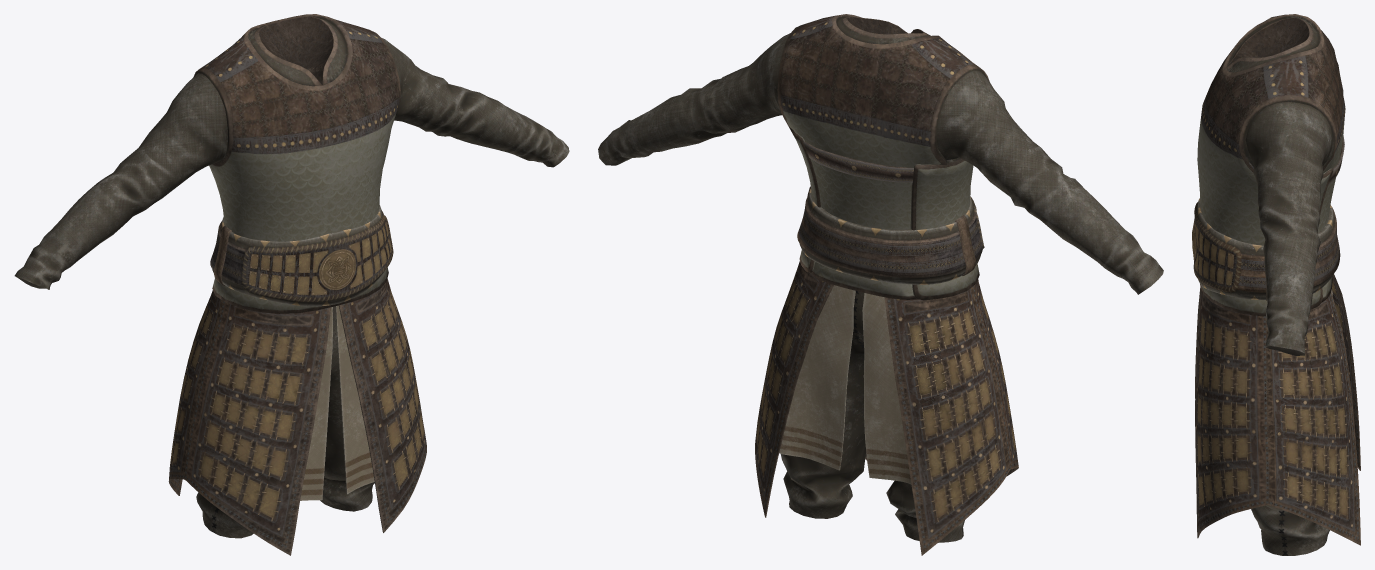
File: dunland_wulf_scalemail_heavy_c.fbx
The picture shows the model from 3 angles, left to right: view 1: azimuth 30°, elevation 25°; view 2: azimuth 150°, elevation 25°; view 3: azimuth 270°, elevation 25°; orthographic projection. The views are drawn at different scales.
Parts seen in each view (by area): view 1: dunland_wulf_scalemail_heavy_c.base, dunland_wulf_scalemail_heavy_c.leatherskirt, dunland_wulf_scalemail_heavy_c.belt, dunland_wulf_scalemail_heavy_c.skirt; view 2: dunland_wulf_scalemail_heavy_c.base, dunland_wulf_scalemail_heavy_c.leatherskirt, dunland_wulf_scalemail_heavy_c.skirt, dunland_wulf_scalemail_heavy_c.belt, dunland_wulf_scalemail_heavy_c.prop; view 3: dunland_wulf_scalemail_heavy_c.base, dunland_wulf_scalemail_heavy_c.leatherskirt, dunland_wulf_scalemail_heavy_c.belt.
Part boxes in pixels (left/top/right/bottom): dunland_wulf_scalemail_heavy_c.base: left=14, top=14, right=569, bottom=538; dunland_wulf_scalemail_heavy_c.leatherskirt: left=168, top=278, right=426, bottom=555; dunland_wulf_scalemail_heavy_c.belt: left=210, top=205, right=393, bottom=306; dunland_wulf_scalemail_heavy_c.skirt: left=184, top=305, right=374, bottom=500; dunland_wulf_scalemail_heavy_c.base: left=598, top=14, right=1163, bottom=542; dunland_wulf_scalemail_heavy_c.leatherskirt: left=755, top=261, right=1018, bottom=555; dunland_wulf_scalemail_heavy_c.skirt: left=779, top=285, right=911, bottom=484; dunland_wulf_scalemail_heavy_c.belt: left=797, top=186, right=984, bottom=284; dunland_wulf_scalemail_heavy_c.prop: left=803, top=141, right=913, bottom=182; dunland_wulf_scalemail_heavy_c.base: left=1197, top=14, right=1345, bottom=555; dunland_wulf_scalemail_heavy_c.leatherskirt: left=1195, top=274, right=1360, bottom=545; dunland_wulf_scalemail_heavy_c.belt: left=1192, top=198, right=1340, bottom=300.
Size of the model in its own units: 1.38 by 0.3696 by 1.18.
4 materials, 4 textured.
